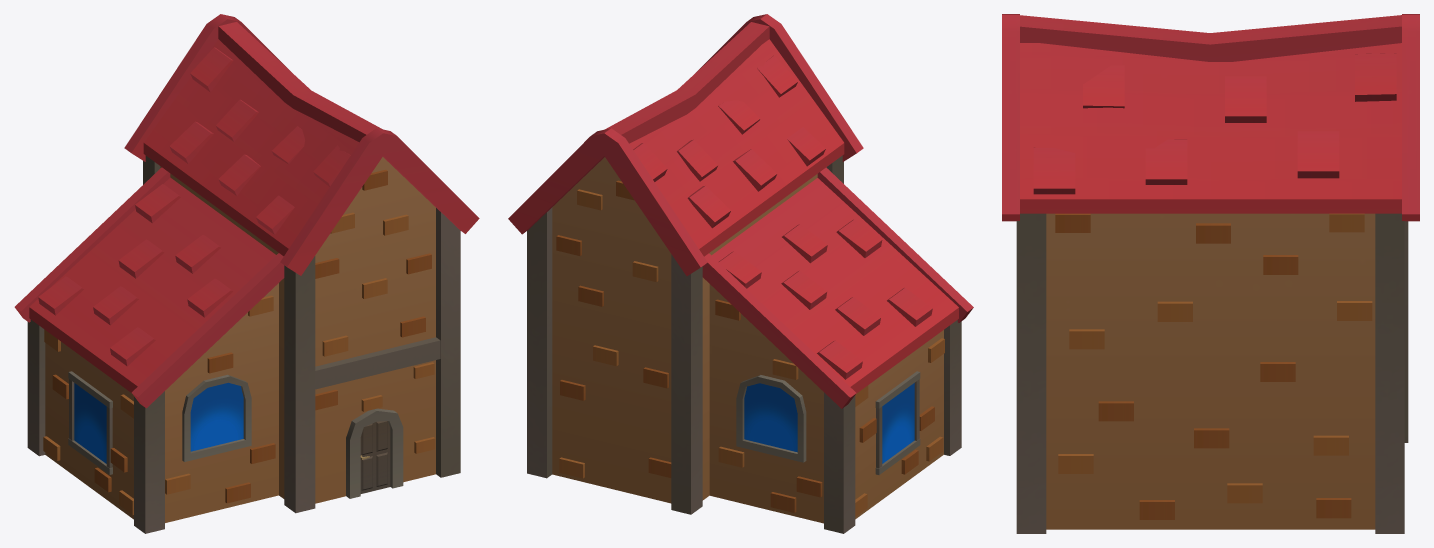
The model's file is SM_House_12.FBX.
3 views of the same model, side by side, from view 1: azimuth 30°, elevation 25°; view 2: azimuth 150°, elevation 25°; view 3: azimuth 270°, elevation 25° (orthographic). The views are drawn at different scales.
Visible parts, largest first — view 1: SM_House_12; view 2: SM_House_12; view 3: SM_House_12.
Part boxes in pixels (box(x1,y1,x2,y2)): SM_House_12: box(14, 14, 479, 533); SM_House_12: box(508, 14, 973, 533); SM_House_12: box(1002, 14, 1419, 533).
Size of what is drawn, in the model's own units: 949 by 831 by 1026.
